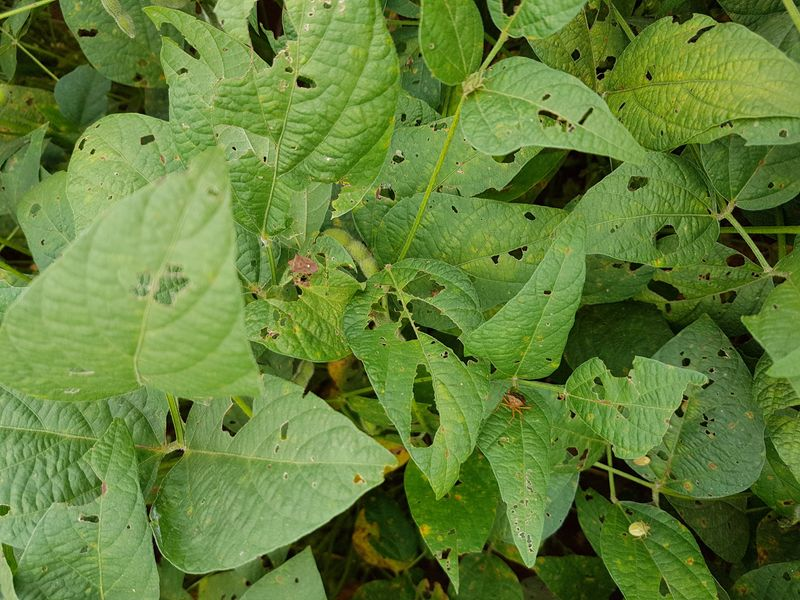Euschistus_heros_adulto: (496, 387, 535, 424), (284, 247, 322, 281)
Euschistus_heros_ninfa: (624, 517, 656, 544)
